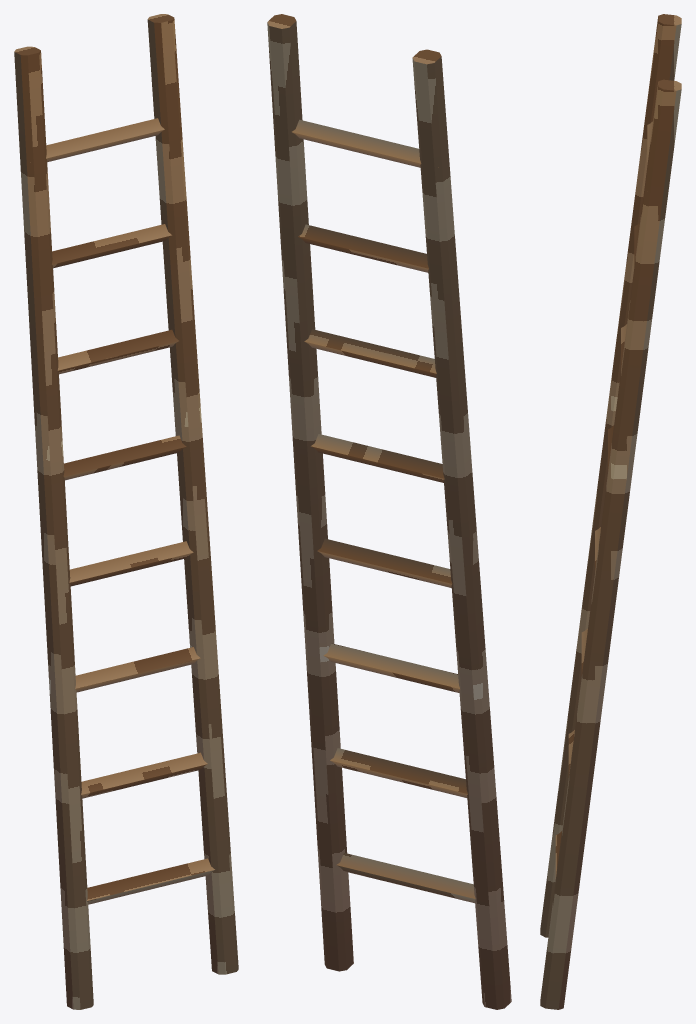
Rendered from wmine.ladder.glb.
3 renders of one model, left to right at view 1: azimuth 30°, elevation 25°; view 2: azimuth 150°, elevation 25°; view 3: azimuth 270°, elevation 25°, orthographic. The views are drawn at different scales.
Visible parts, largest first — view 1: kit_poles, kit_rungs; view 2: kit_poles, kit_rungs; view 3: kit_poles, kit_rungs.
Boxes of the visible parts, x1,y1,x2,y2 form: kit_poles: (14, 14, 238, 1009); kit_rungs: (30, 118, 214, 904); kit_poles: (267, 14, 511, 1009); kit_rungs: (274, 119, 475, 903); kit_poles: (540, 14, 681, 1009); kit_rungs: (555, 121, 666, 878).
Bounding box in the file's own units: 0.57 × 3.01 × 0.4196.
2 materials, 2 textured.
